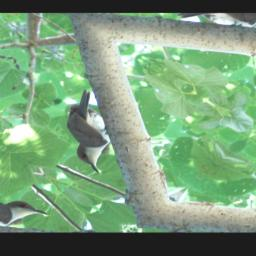Cuckoo: (32, 87, 154, 175)
